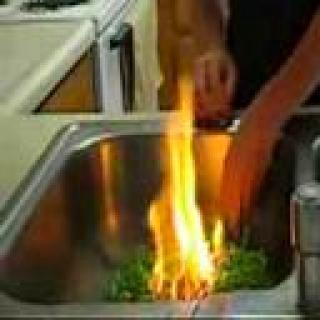fire: (149, 80, 222, 301)
